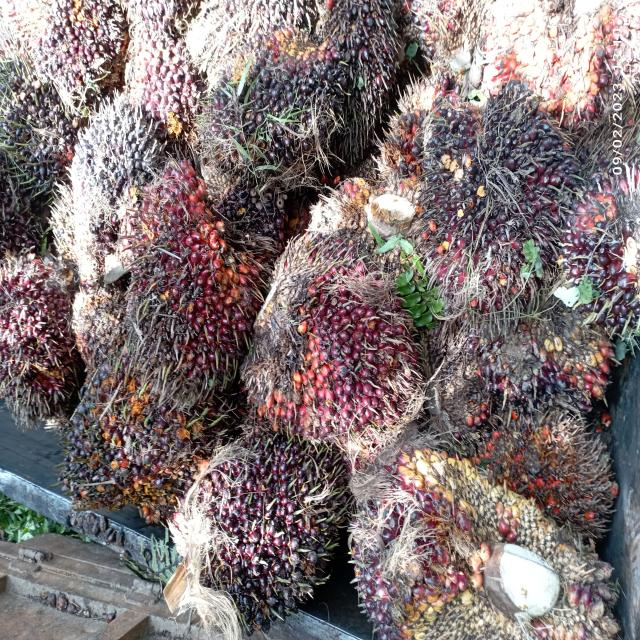fraksi 00: (158, 434, 354, 627), (60, 322, 229, 543), (218, 4, 411, 178)
fraksi 1: (409, 71, 572, 310)
fraksi 3: (234, 234, 451, 456), (109, 167, 264, 380), (0, 260, 82, 437)
fraksi 4: (485, 408, 609, 514)
